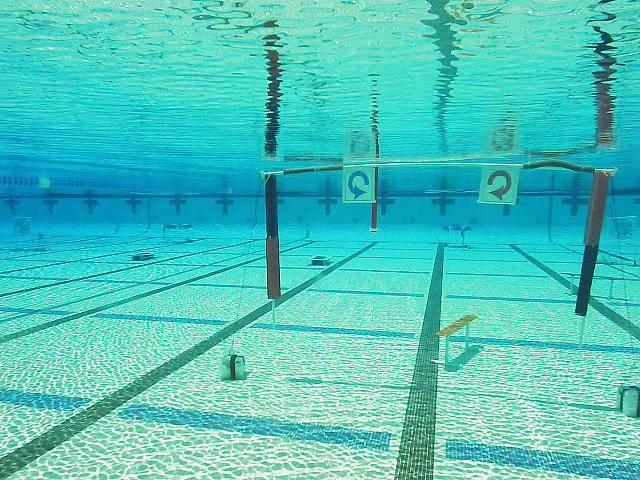dropper: (306, 253, 332, 266), (130, 250, 154, 262)
gate: (258, 160, 616, 318)
gate_blue: (342, 166, 375, 202)
gate_leg_l: (262, 169, 282, 301)
gate_leg_r: (574, 168, 610, 316)
gate_red: (482, 167, 517, 203)
table: (439, 224, 471, 250)
